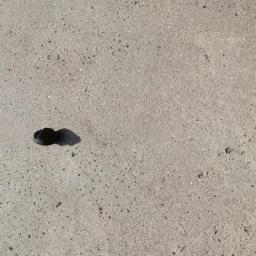FOD: (33, 123, 84, 152)
